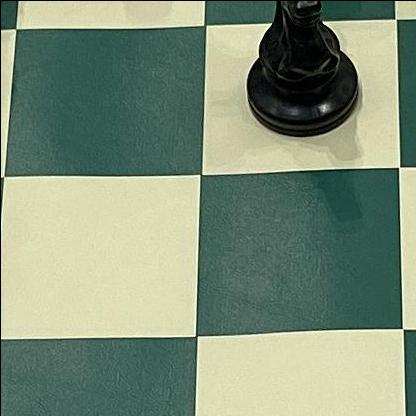black-knight: (230, 0, 373, 143)
